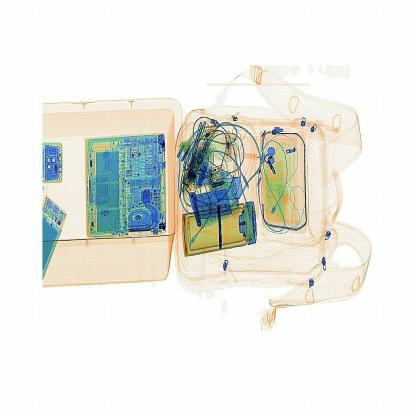knife: (210, 198, 237, 257)
